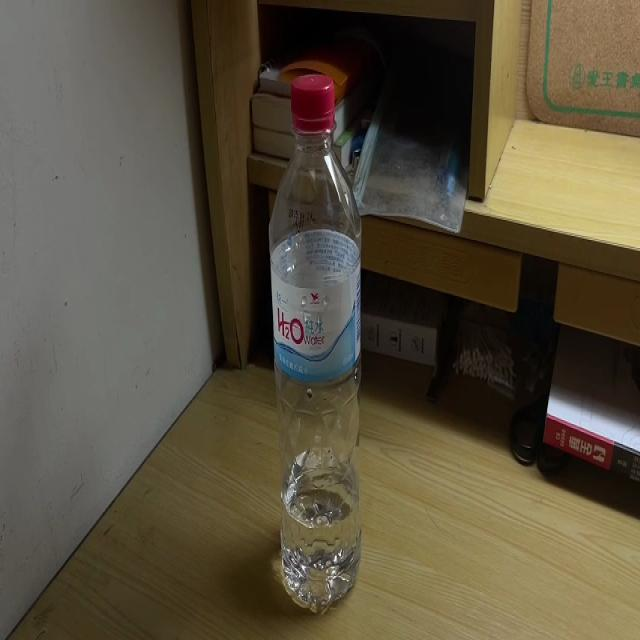Water: (270, 73, 364, 612)
